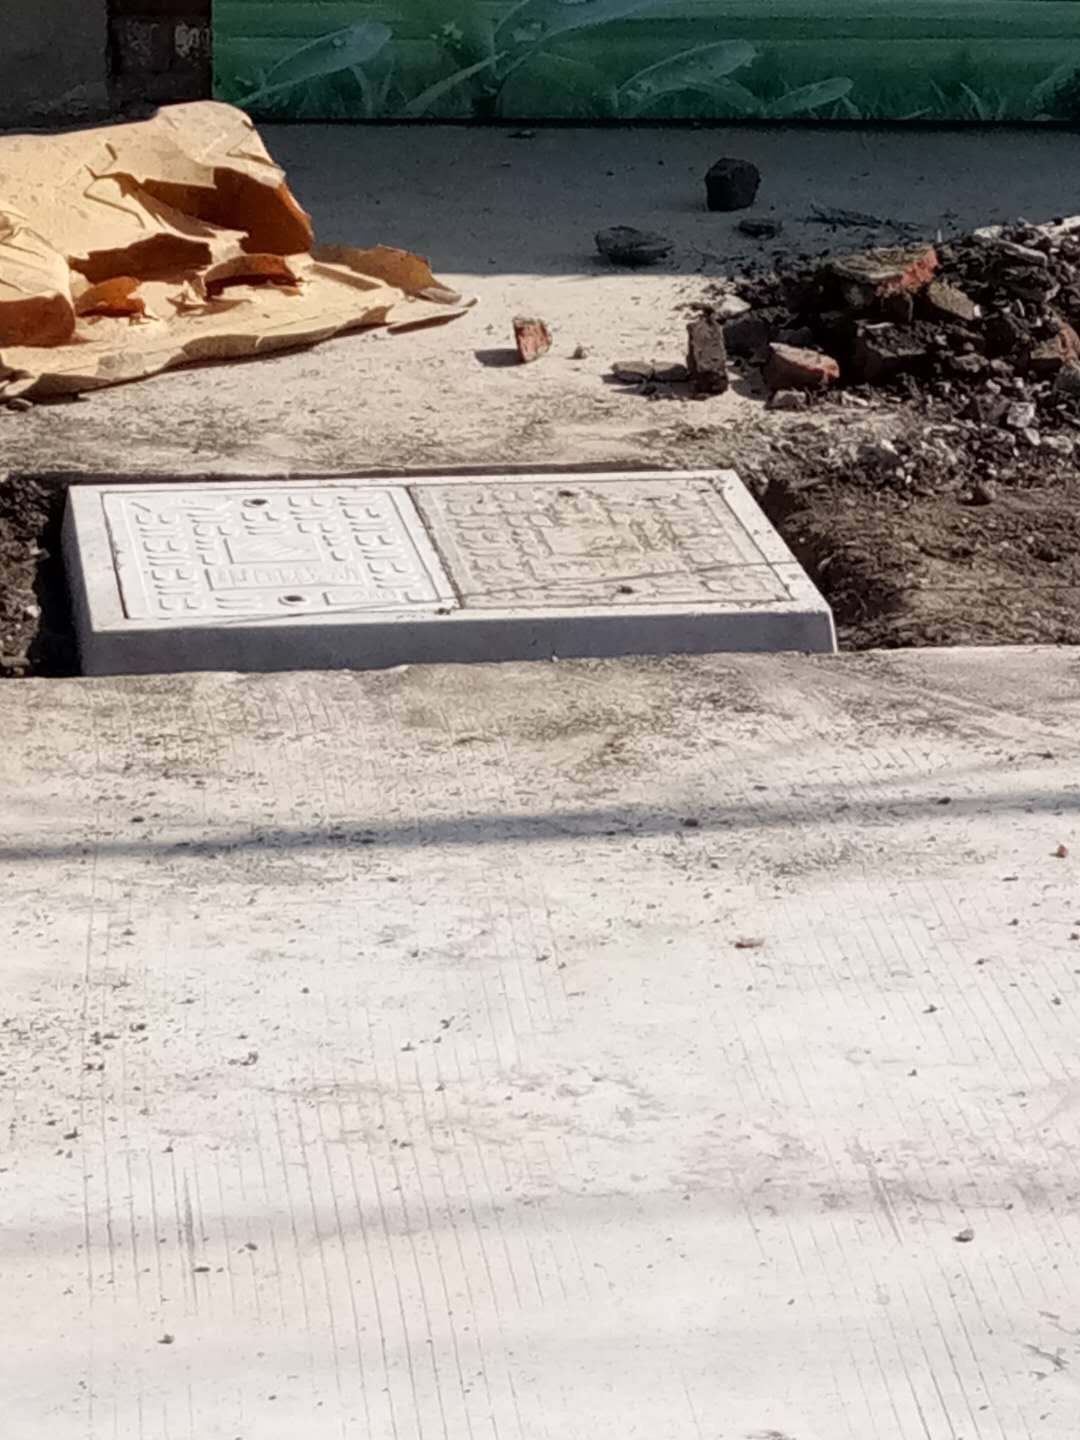good: (65, 469, 829, 634)
